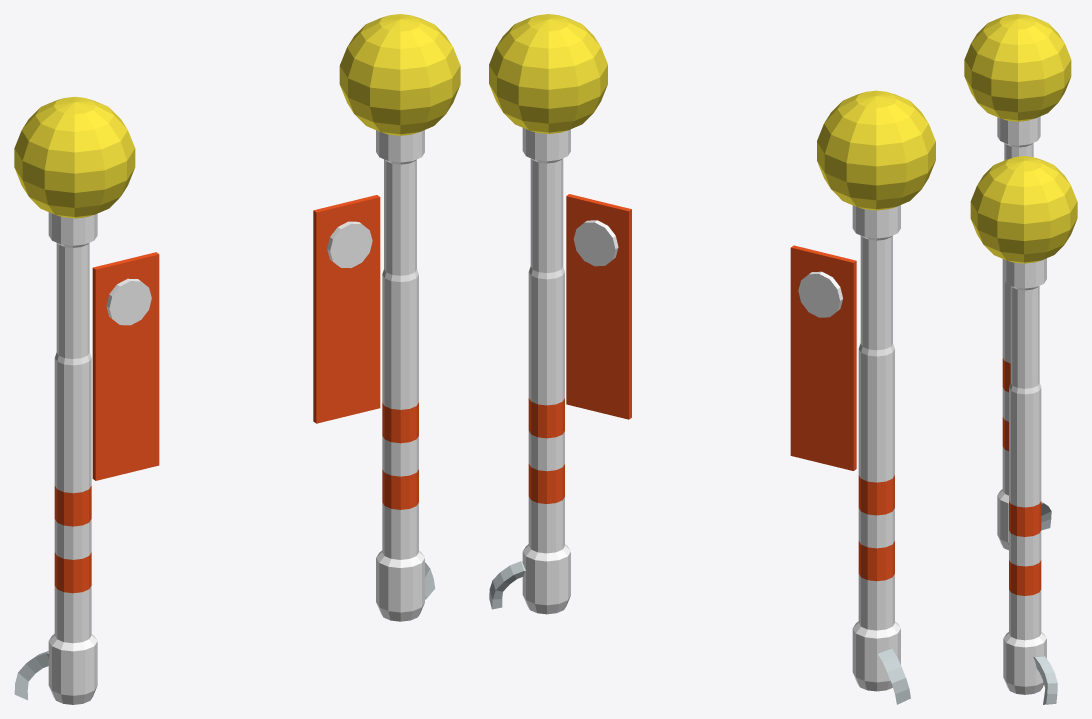
File: park-shelter.glb
The picture shows the model from 3 angles, left to right: view 1: azimuth 30°, elevation 25°; view 2: azimuth 150°, elevation 25°; view 3: azimuth 270°, elevation 25°; orthographic projection. The views are drawn at different scales.
Parts seen in each view (by area): view 1: park-shelter (×2); view 2: park-shelter (×2); view 3: park-shelter (×2).
Part boxes in pixels (<box>): park-shelter (×2): <box>14,14,460,704</box>; park-shelter (×2): <box>489,14,935,704</box>; park-shelter (×2): <box>964,14,1077,704</box>.
Bounding box in the file's own units: 0.0692 × 0.0911 × 0.0177.
